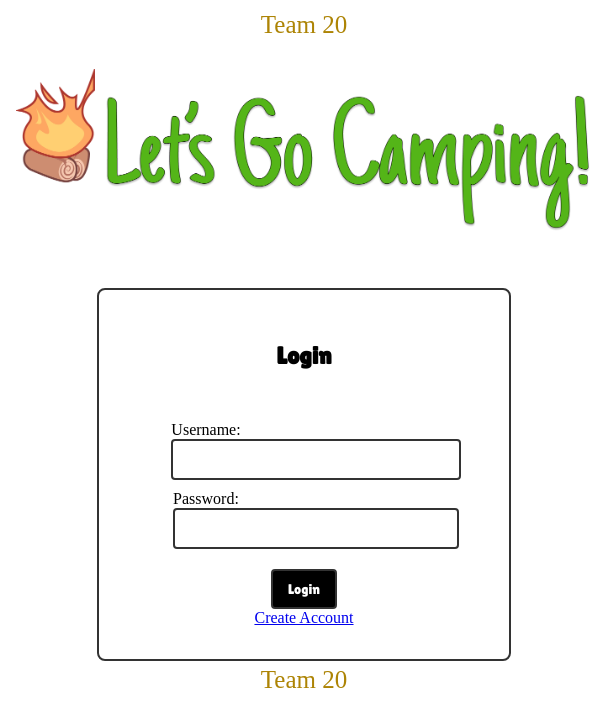
Login Component › handles login with invalid credentials
In the field labelled "Username:": (316, 460) left=171, top=439, right=461, bottom=480, type "testUser"
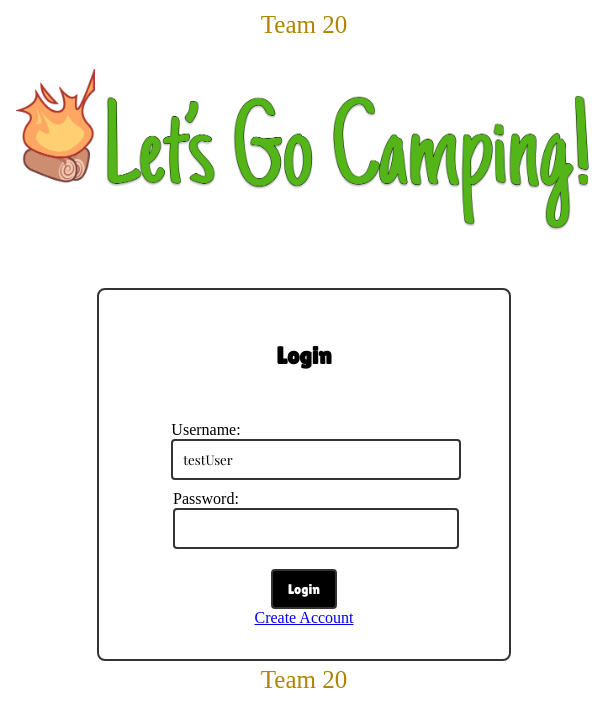
In the password field labelled "Password:": (316, 529) left=173, top=508, right=459, bottom=549, type "wrongPassword"
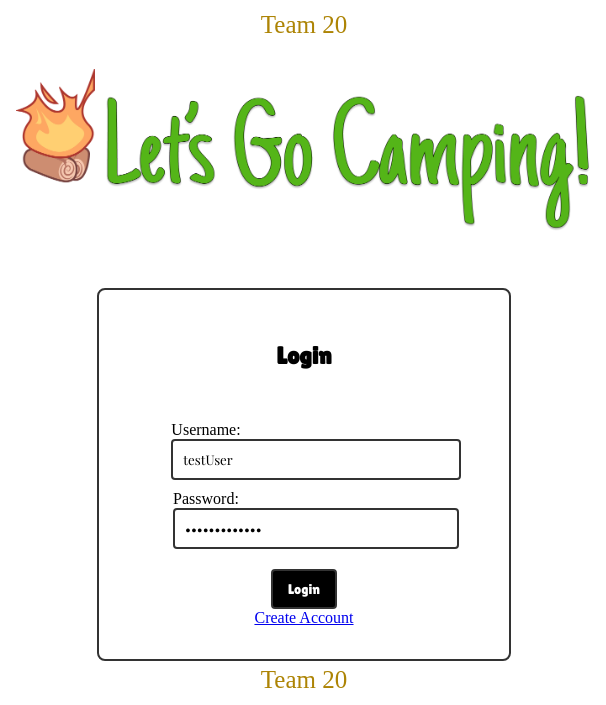
Click the button "Login": (304, 589) left=271, top=569, right=337, bottom=609
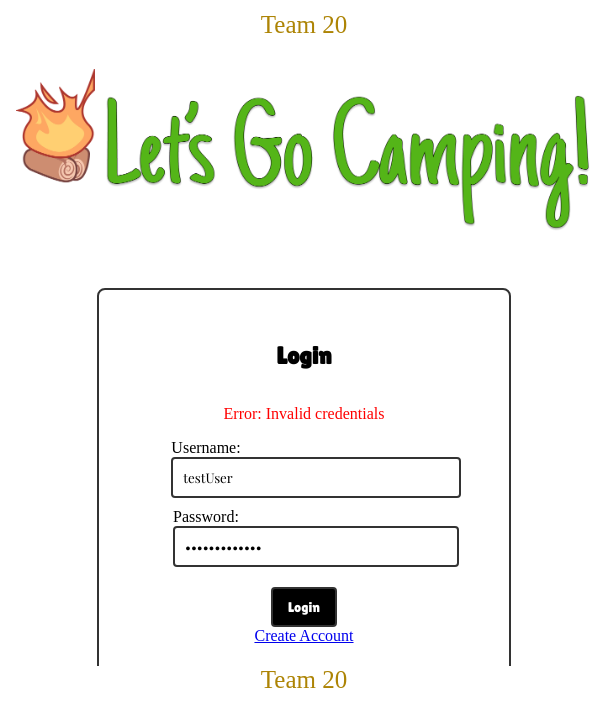
Check: the text "Error: Invalid credentials" is shown, box left=224, top=405, right=384, bottom=423
